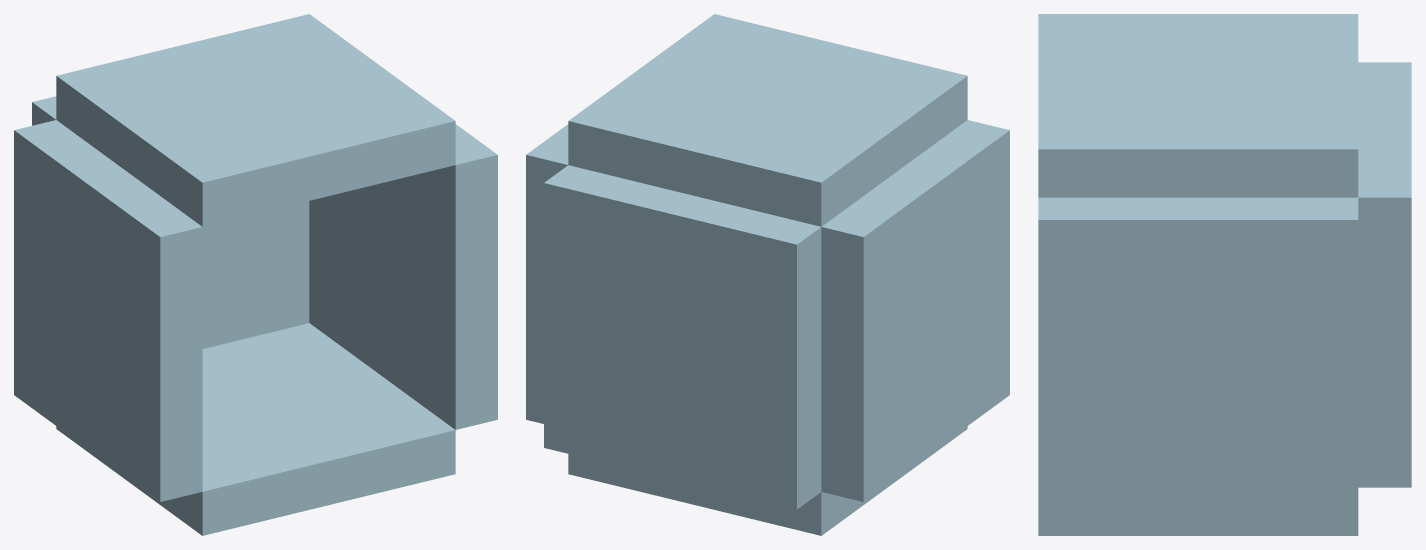
The model's file is hut.obj.
3 renders of one model, left to right at view 1: azimuth 30°, elevation 25°; view 2: azimuth 150°, elevation 25°; view 3: azimuth 270°, elevation 25°, orthographic. The views are drawn at different scales.
Parts seen in each view (by area): view 1: plane; view 2: plane; view 3: plane.
Boxes of the visible parts, left/top/right/bottom form: plane: left=14, top=14, right=497, bottom=535; plane: left=526, top=14, right=1009, bottom=535; plane: left=1038, top=14, right=1411, bottom=535.
Size of the model in its own units: 0.5 by 0.5 by 0.4375.
Materials: 1 (1 with a texture image).
